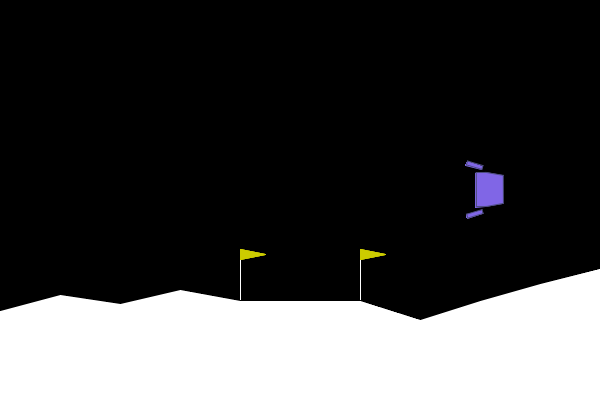lander: (465, 160, 505, 220)
